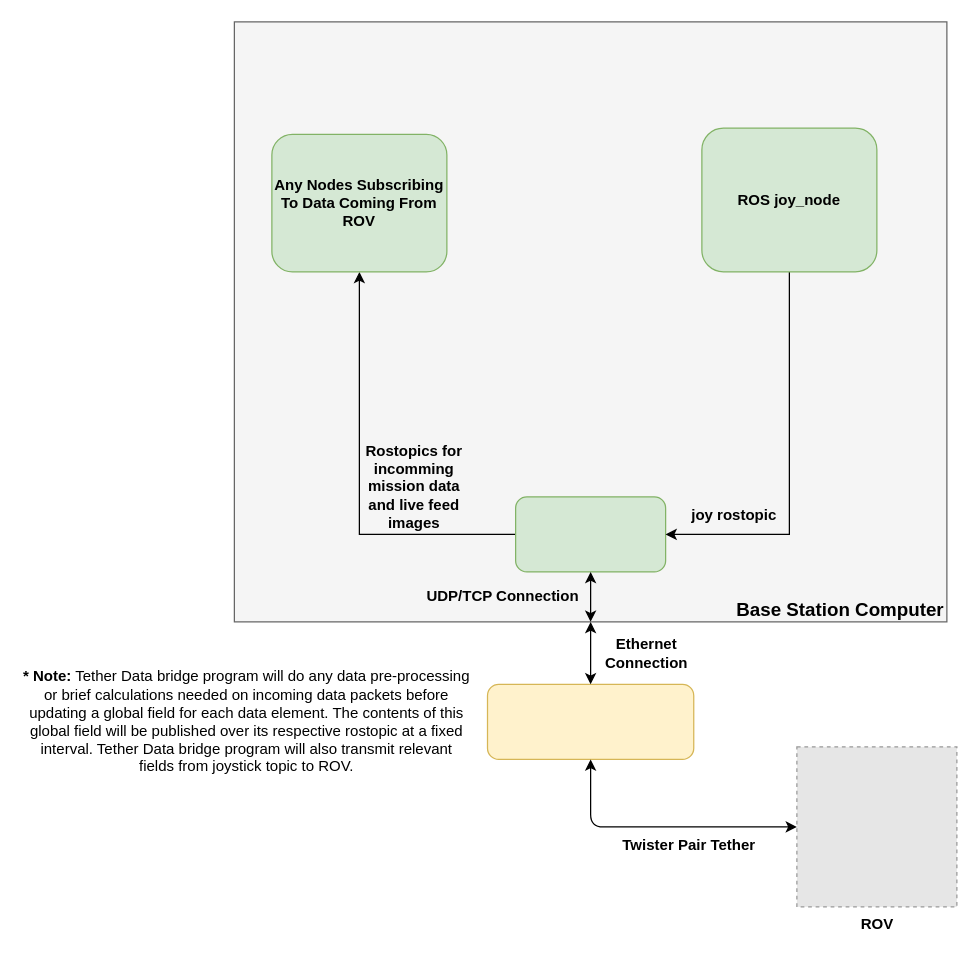
Image size: 979x955. Some labels were removed from this diagram. Grey dashed boxes stand in for pictures. The shapes that lost their labels are listed below. From the top down, each one's centre as x and y in pixels, then its label:
At [590,534]: "* Tether Data Bridge Program".
At [590,721]: "Tether Interface Board".
